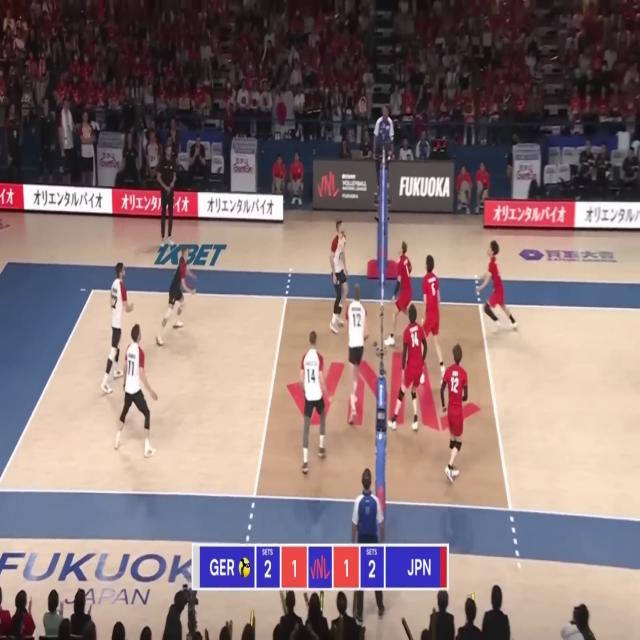referee: (352, 467, 388, 622)
team_one: (114, 324, 160, 459), (300, 331, 334, 475), (100, 260, 134, 395), (156, 248, 196, 347), (346, 282, 368, 425), (330, 221, 350, 334)
team_two: (387, 304, 428, 432), (476, 240, 518, 336), (441, 342, 469, 483), (418, 252, 446, 385), (384, 241, 413, 349)
